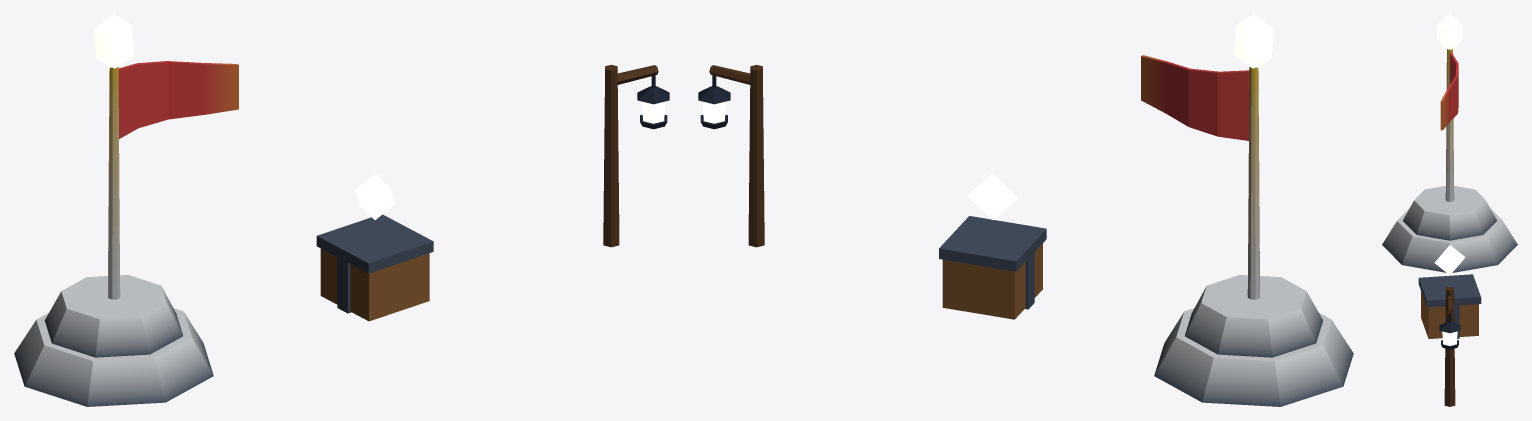
Rendered from summit_set.glb.
The picture shows the model from 3 angles, left to right: view 1: azimuth 30°, elevation 25°; view 2: azimuth 150°, elevation 25°; view 3: azimuth 270°, elevation 25°; orthographic projection. The views are drawn at different scales.
Visible parts, largest first — view 1: SummitFlagMonument, MysterySupplyCrate, TrailLanternPost, SummitCrownOrb, MysteryCrystal; view 2: SummitFlagMonument, MysterySupplyCrate, TrailLanternPost, SummitCrownOrb, MysteryCrystal; view 3: SummitFlagMonument, MysterySupplyCrate, TrailLanternPost, SummitCrownOrb, MysteryCrystal, TrailLanternGlass.
Part boxes in pixels (left/top/right/bottom): SummitFlagMonument: left=14, top=61, right=238, bottom=406; MysterySupplyCrate: left=316, top=214, right=433, bottom=321; TrailLanternPost: left=603, top=64, right=669, bottom=247; SummitCrownOrb: left=93, top=14, right=134, bottom=68; MysteryCrystal: left=354, top=174, right=395, bottom=219; SummitFlagMonument: left=1141, top=55, right=1353, bottom=406; MysterySupplyCrate: left=939, top=216, right=1046, bottom=319; TrailLanternPost: left=698, top=64, right=764, bottom=247; SummitCrownOrb: left=1233, top=14, right=1274, bottom=68; MysteryCrystal: left=967, top=174, right=1018, bottom=219; SummitFlagMonument: left=1382, top=49, right=1517, bottom=272; MysterySupplyCrate: left=1418, top=274, right=1481, bottom=338; TrailLanternPost: left=1439, top=287, right=1460, bottom=406; SummitCrownOrb: left=1437, top=14, right=1462, bottom=49; MysteryCrystal: left=1434, top=245, right=1465, bottom=274; TrailLanternGlass: left=1442, top=331, right=1457, bottom=345.
Size of the model in its own units: 5.19 by 2.7 by 1.44.
